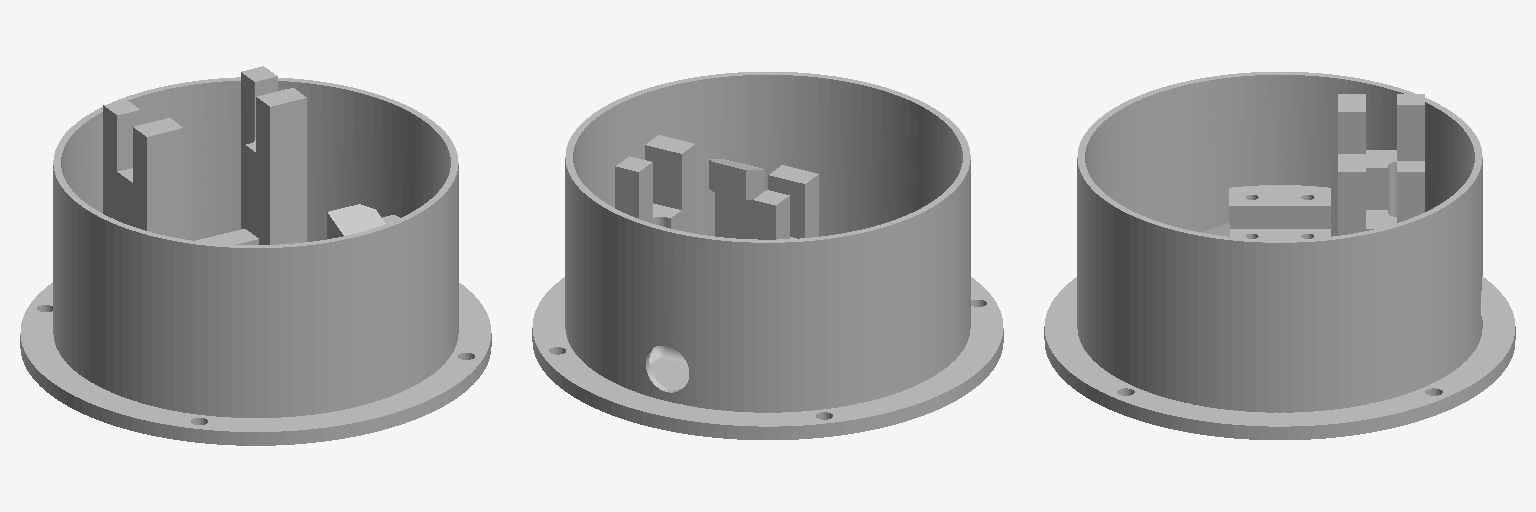
URDF robot description (jdcobot_100_description):
<?xml version="1.0" encoding="utf-8"?>
<!-- This URDF was automatically created by SolidWorks to URDF Exporter! Originally created by Stephen Brawner (brawner@gmail.com) 
     Commit Version: 1.6.0-4-g7f85cfe  Build Version: 1.6.7995.38578
     For more information, please see http://wiki.ros.org/sw_urdf_exporter -->
<!--
/*MIT License

Copyright (c) 2024 JD edu. http://jdedu.kr author: conner.jeong@gmail.com
     
Permission is hereby granted, free of charge, to any person obtaining a copy
of this software and associated documentation files (the "Software"), to deal
in the Software without restriction, including without limitation the rights
to use, copy, modify, merge, publish, distribute, sublicense, and/or sell
copies of the Software, and to permit persons to whom the Software is
furnished to do so, subject to the following conditions:
     
The above copyright notice and this permission notice shall be included in all
copies or substantial portions of the Software.
     
THE SOFTWARE IS PROVIDED "AS IS", WITHOUT WARRANTY OF ANY KIND, EXPRESS OR
IMPLIED, INCLUDING BUT NOT LIMITED TO THE WARRANTIES OF MERCHANTABILITY,
FITNESS FOR A PARTICULAR PURPOSE AND NONINFRINGEMENT. IN NO EVENT SHALL THE
AUTHORS OR COPYRIGHT HOLDERS BE LIABLE FOR ANY CLAIM, DAMAGES OR OTHER
LIABILITY, WHETHER IN AN ACTION OF CONTRACT, TORT OR OTHERWISE, ARISING FROM,
OUT OF OR IN CONNECTION WITH THE SOFTWARE OR THE USE OR OTHER DEALINGS IN TH
SOFTWARE.*/

-->
<robot
  name="jdcobot_100_description">
  <link
    name="base_link">
    <inertial>
      <origin
        xyz="0.00022682 -0.00017814 0.014909"
        rpy="0 0 0" />
      <mass
        value="0.019008" />
      <inertia
        ixx="1.8805E-05"
        ixy="-7.6583E-10"
        ixz="2.1195E-08"
        iyy="1.8509E-05"
        iyz="-3.3423E-08"
        izz="3.1019E-05" />
    </inertial>
    <visual>
      <origin
        xyz="0 0 0"
        rpy="0 0 0" />
      <geometry>
        <mesh
          filename="package://ch18_22_robot_arm/meshes/base.stl" />
      </geometry>
      <material
        name="">
        <color
          rgba="0.8 0.8 0.8 1" />
      </material>
    </visual>
    <collision>
      <origin
        xyz="0 0 0"
        rpy="0 0 0" />
      <geometry>
        <mesh
          filename="package://ch18_22_robot_arm/meshes/base.stl" />
      </geometry>
    </collision>
  </link>
  <link
    name="link_1">
    <inertial>
      <origin
        xyz="-7.7756E-10 0.017465 0.027545"
        rpy="0 0 0" />
      <mass
        value="0.066052" />
      <inertia
        ixx="2.1357E-05"
        ixy="2.9543E-12"
        ixz="8.0357E-12"
        iyy="1.9243E-05"
        iyz="-2.021E-06"
        izz="2.3357E-05" />
    </inertial>
    <visual>
      <origin
        xyz="0 0 0"
        rpy="0 0 0" />
      <geometry>
        <mesh
          filename="package://ch18_22_robot_arm/meshes/shoulder_big_part_1.stl" />
      </geometry>
      <material
        name="">
        <color
          rgba="0.8 0.8 0.8 1" />
      </material>
    </visual>
    <collision>
      <origin
        xyz="0 0 0"
        rpy="0 0 0" />
      <geometry>
        <mesh
          filename="package://ch18_22_robot_arm/meshes/shoulder_big_part_1.stl" />
      </geometry>
    </collision>
  </link>
  <joint
    name="base_joint"
    type="revolute">
    <origin
      xyz="0 0 0.039955"
      rpy="0 0 0" />
    <parent
      link="base_link" />
    <child
      link="link_1" />
    <axis
      xyz="0 0 1" />
    <limit
      lower="-1.5708"
      upper="1.5708"
      effort="1"
      velocity="1" />
  </joint>
  <link
    name="link_2">
    <inertial>
      <origin
        xyz="-0.000181907929320544 0.0443769507690996 -0.0085382930319754"
        rpy="0 0 0" />
      <mass
        value="0.0190273159446965" />
      <inertia
        ixx="8.74594882488797E-06"
        ixy="1.37115985990644E-07"
        ixz="-4.11533984366866E-08"
        iyy="1.93086037561252E-06"
        iyz="1.9557739081659E-06"
        izz="7.76878615822096E-06" />
    </inertial>
    <visual>
      <origin
        xyz="0 0 0"
        rpy="0 0 0" />
      <geometry>
        <mesh
          filename="package://ch18_22_robot_arm/meshes/shoulder_elbow.stl" />
      </geometry>
      <material
        name="">
        <color
          rgba="0.8 0.8 0.8 1" />
      </material>
    </visual>
    <collision>
      <origin
        xyz="0 0 0"
        rpy="0 0 0" />
      <geometry>
        <mesh
          filename="package://ch18_22_robot_arm/meshes/shoulder_elbow.stl" />
      </geometry>
    </collision>
  </link>
  <joint
    name="shoulder_joint"
    type="revolute">
    <origin
      xyz="0 0 0.045445"
      rpy="1.5708 0 0" />
    <parent
      link="link_1" />
    <child
      link="link_2" />
    <axis
      xyz="0 0 1" />
    <limit
      lower="-1.5708"
      upper="1.5708"
      effort="1"
      velocity="1" />
  </joint>
  <link
    name="link_3">
    <inertial>
      <origin
        xyz="-0.000185945263925889 0.0453619494857649 -0.00876236391120723"
        rpy="0 0 0" />
      <mass
        value="0.0186141528868413" />
      <inertia
        ixx="8.70833213685486E-06"
        ixy="1.37115937443114E-07"
        ixz="-4.11533843718365E-08"
        iyy="1.92632417274386E-06"
        iyz="1.95577390847603E-06"
        izz="7.72844628527868E-06" />
    </inertial>
    <visual>
      <origin
        xyz="0 0 0"
        rpy="0 0 0" />
      <geometry>
        <mesh
          filename="package://ch18_22_robot_arm/meshes/elbow_wrist.stl" />
      </geometry>
      <material
        name="">
        <color
          rgba="0.8 0.8 0.8 1" />
      </material>
    </visual>
    <collision>
      <origin
        xyz="0 0 0"
        rpy="0 0 0" />
      <geometry>
        <mesh
          filename="package://ch18_22_robot_arm/meshes/elbow_wrist.stl" />
      </geometry>
    </collision>
  </link>
  <joint
    name="eblow_joint"
    type="revolute">
    <origin
      xyz="0 0.07545 0"
      rpy="0 0 0" />
    <parent
      link="link_2" />
    <child
      link="link_3" />
    <axis
      xyz="0 0 1" />
    <limit
      lower="-1.5708"
      upper="1.5708"
      effort="1"
      velocity="1" />
  </joint>
  <link
    name="link_4">
    <inertial>
      <origin
        xyz="0.00238354888808976 0.0406979815377837 -0.00470573522833003"
        rpy="0 0 0" />
      <mass
        value="0.0228196301528819" />
      <inertia
        ixx="5.99210748155036E-06"
        ixy="-3.54766402704913E-07"
        ixz="6.68214292131051E-09"
        iyy="1.91544656050899E-06"
        iyz="5.72900294112311E-07"
        izz="5.3271513117511E-06" />
    </inertial>
    <visual>
      <origin
        xyz="0 0 0"
        rpy="0 0 0" />
      <geometry>
        <mesh
          filename="package://ch18_22_robot_arm/meshes/wrist_assembly.stl" />
      </geometry>
      <material
        name="">
        <color
          rgba="0.8 0.8 0.8 1" />
      </material>
    </visual>
    <collision>
      <origin
        xyz="0 0 0"
        rpy="0 0 0" />
      <geometry>
        <mesh
          filename="package://ch18_22_robot_arm/meshes/wrist_assembly.stl" />
      </geometry>
    </collision>
  </link>
  <joint
    name="wrist_joint"
    type="revolute">
    <origin
      xyz="0 0.07545 0"
      rpy="0 0 0" />
    <parent
      link="link_3" />
    <child
      link="link_4" />
    <axis
      xyz="0 0 1" />
    <limit
      lower="-1.5708"
      upper="1.5708"
      effort="1"
      velocity="1" />
  </joint>
  <link
    name="link_5">
    <inertial>
      <origin
        xyz="-2.99023149991084E-10 -4.22194639535314E-09 0.00251673324295842"
        rpy="0 0 -0.085" />
      <mass
        value="0.000405354473062767" />
      <inertia
        ixx="4.75327203550509E-09"
        ixy="7.16674452594772E-22"
        ixz="-4.25319650811165E-16"
        iyy="4.7532720355151E-09"
        iyz="-6.00514311014038E-15"
        izz="8.3329819287651E-09" />
    </inertial>
    <visual>
      <origin
        xyz="0 0 0"
        rpy="0 0 0" />
      <geometry>
        <mesh
          filename="package://ch18_22_robot_arm/meshes/Round_gear.stl" />
      </geometry>
      <material
        name="">
        <color
          rgba="0.8 0.8 0.8 1" />
      </material>
    </visual>
    <collision>
      <origin
        xyz="0 0 0"
        rpy="0 0 0" />
      <geometry>
        <mesh
          filename="package://ch18_22_robot_arm/meshes/Round_gear.stl" />
      </geometry>
    </collision>
  </link>
  <joint
    name="gripper_joint"
    type="revolute">
    <origin
      xyz="-0.00079998 0.06655 -0.01201"
      rpy="0 1.5708 1.5708" />
    <parent
      link="link_4" />
    <child
      link="link_5" />
    <axis
      xyz="0 0 1" />
    <limit
      lower="0"
      upper="3.1416"
      effort="1"
      velocity="1" />
  </joint>
  <link
    name="link_6">
    <inertial>
      <origin
        xyz="-0.0153774703200646 -0.0150318091558425 0.00793841471812814"
        rpy="0 0 0" />
      <mass
        value="0.00129443286191198" />
      <inertia
        ixx="6.08776898854611E-08"
        ixy="-3.45005386588659E-09"
        ixz="4.6815158004451E-09"
        iyy="9.34687699092981E-08"
        iyz="1.56970312927182E-11"
        izz="4.72247124617031E-08" />
    </inertial>
    <visual>
      <origin
        xyz="0 0 0"
        rpy="0 0 0" />
      <geometry>
        <mesh
          filename="package://ch18_22_robot_arm/meshes/gripper_finger.stl" />
      </geometry>
      <material
        name="">
        <color
          rgba="0.8 0.8 0.8 1" />
      </material>
    </visual>
    <collision>
      <origin
        xyz="0 0 0"
        rpy="0 0 0" />
      <geometry>
        <mesh
          filename="package://ch18_22_robot_arm/meshes/gripper_finger.stl" />
      </geometry>
    </collision>
  </link>
  <joint
    name="joint_6"
    type="prismatic">
    <origin
      xyz="-0.007818 0.063831 0.018"
      rpy="0 3.1416 1.5708" />
    <parent
      link="link_4" />
    <child
      link="link_6" />
    <axis
      xyz="0 0 1" />
    <limit
      lower="0.001"
      upper="0.003"
      effort="1"
      velocity="0.02" />
    <mimic
      joint="gripper_joint"
      multiplier="0.0062"
      offset="0" />
  </joint>
</robot>

--- Render facts (derived) ---
The picture shows the robot from 3 angles, left to right: view 1: azimuth 30°, elevation 25°; view 2: azimuth 150°, elevation 25°; view 3: azimuth 270°, elevation 25°; orthographic projection.
Robot: jdcobot_100_description — 7 links, 6 joints (5 revolute, 1 prismatic); root link base_link; default pose: joints at zero except 1 at the middle of their limits (, +1 more).
Visible links, largest first — view 1: base_link, link_1, link_6; view 2: base_link, link_1, link_6; view 3: base_link, link_1.
Link boxes in pixels (x1,y1,x2,y2): base_link: (20, 77, 491, 445); link_1: (53, 66, 458, 417); link_6: (327, 204, 385, 238); base_link: (532, 72, 1003, 439); link_1: (566, 135, 970, 412); link_6: (709, 159, 764, 238); base_link: (1044, 72, 1515, 439); link_1: (1077, 94, 1482, 412).
Bounding box of the posed robot: 92.98 × 92.99 × 58.98 m (x, y, z).
Meshes: 7 distinct files referenced, 4 mesh visuals loaded (4 binary STL); not drawn: 3 (reference not matched to a file when rendering).
